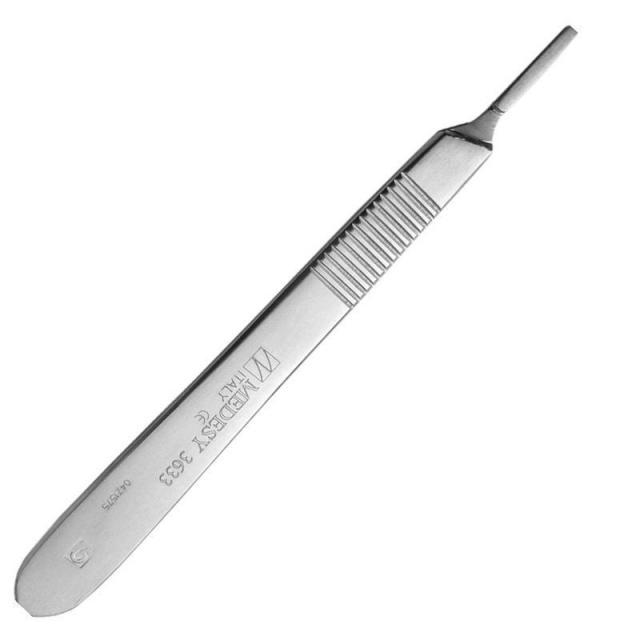Scalpel: (12, 24, 578, 618)
